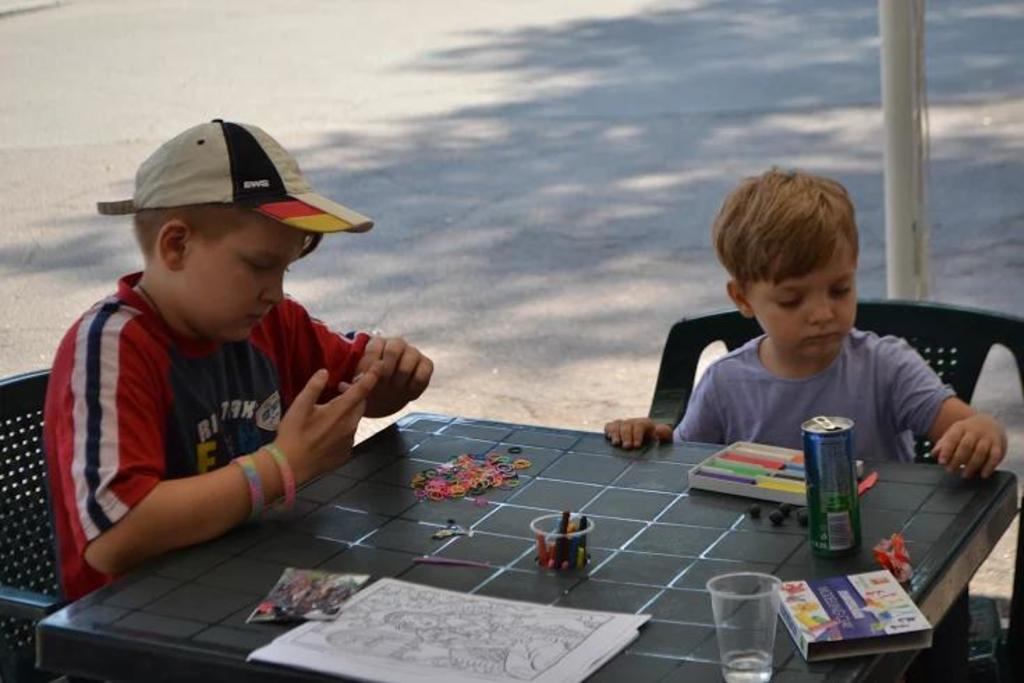Human_hand: (262, 332, 424, 478), (355, 330, 437, 410), (931, 414, 1007, 478), (602, 415, 676, 450)
